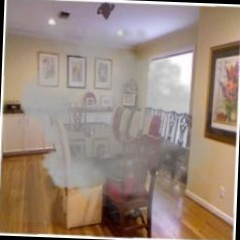smoke: (30, 68, 177, 187)
